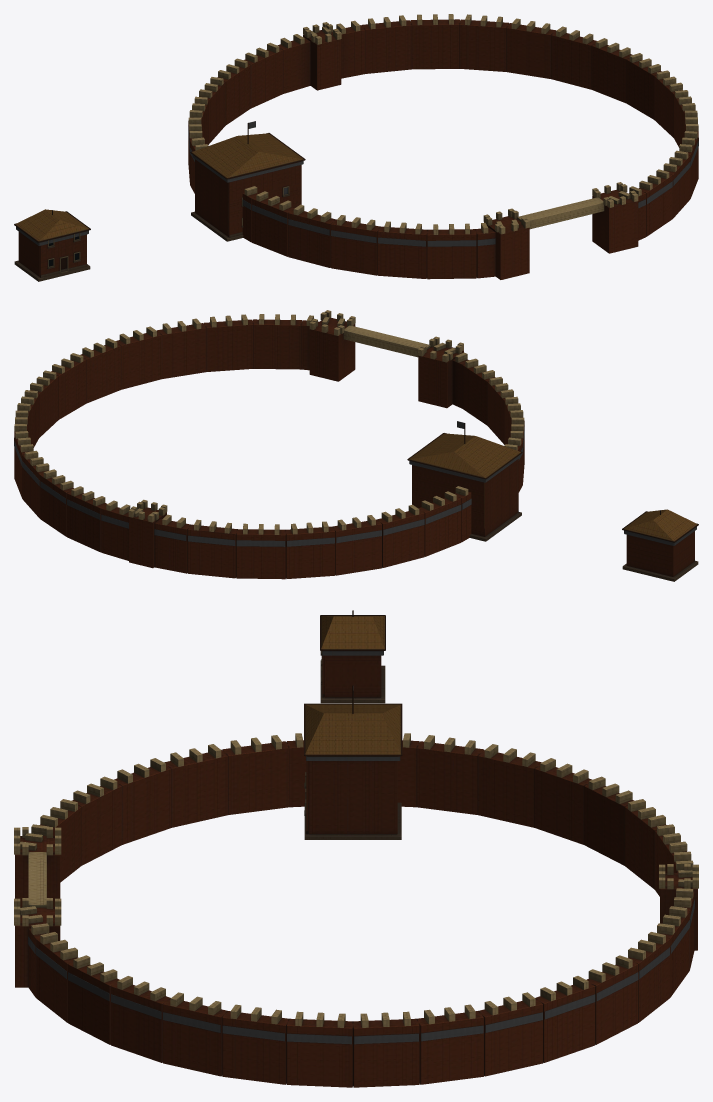
File: shared-kingdoms-westafrica.glb
3 views of the same model, one above another, from view 1: azimuth 30°, elevation 25°; view 2: azimuth 150°, elevation 25°; view 3: azimuth 270°, elevation 25° (orthographic). The views are drawn at different scales.
Visible parts, largest first — view 1: LOD0.002, LOD0.001, LOD0; view 2: LOD0.002, LOD0.001, LOD0; view 3: LOD0.002, LOD0.001, LOD0.
Boxes of the visible parts, x1,y1,x2,y2 form: LOD0.002: [188, 14, 698, 279]; LOD0.001: [190, 121, 305, 241]; LOD0: [14, 209, 90, 281]; LOD0.002: [14, 310, 524, 579]; LOD0.001: [407, 421, 522, 541]; LOD0: [622, 509, 698, 581]; LOD0.002: [14, 733, 698, 1087]; LOD0.001: [304, 685, 402, 839]; LOD0: [320, 610, 385, 703].
Size of what is drawn, in the model's own units: 9.81 by 1.41 by 6.78.
Materials: 2 (2 with a texture image).
